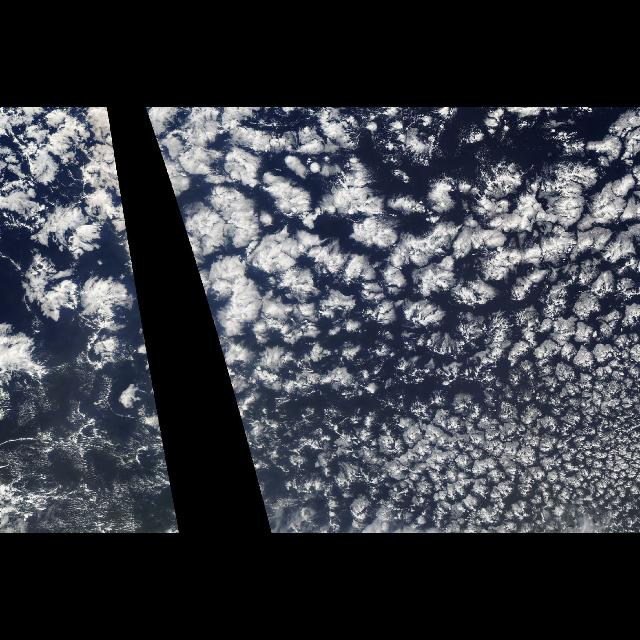Flower: (150, 110, 640, 532), (13, 135, 183, 533)
